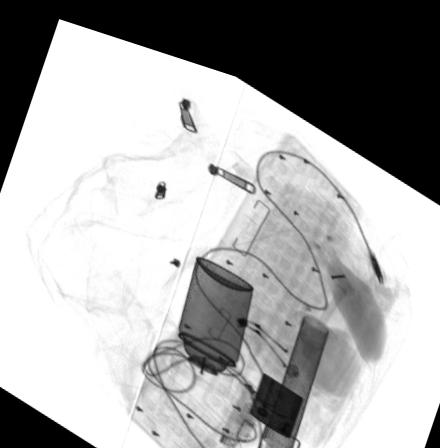Lighter: (249, 356, 303, 419)
Sprayer: (170, 242, 254, 383)
